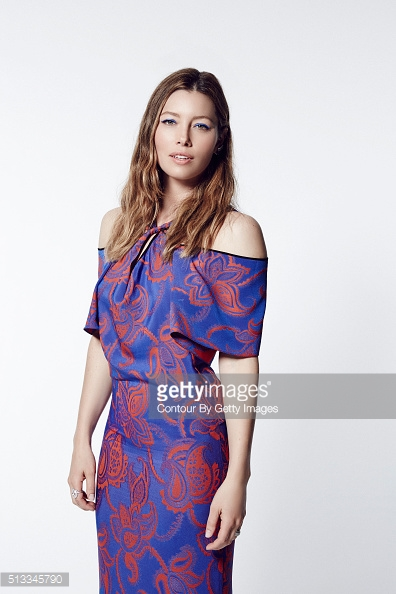em pe: (66, 54, 271, 594)
